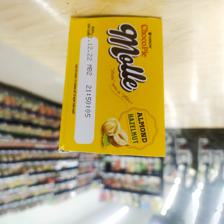Molle: (56, 11, 170, 155)
